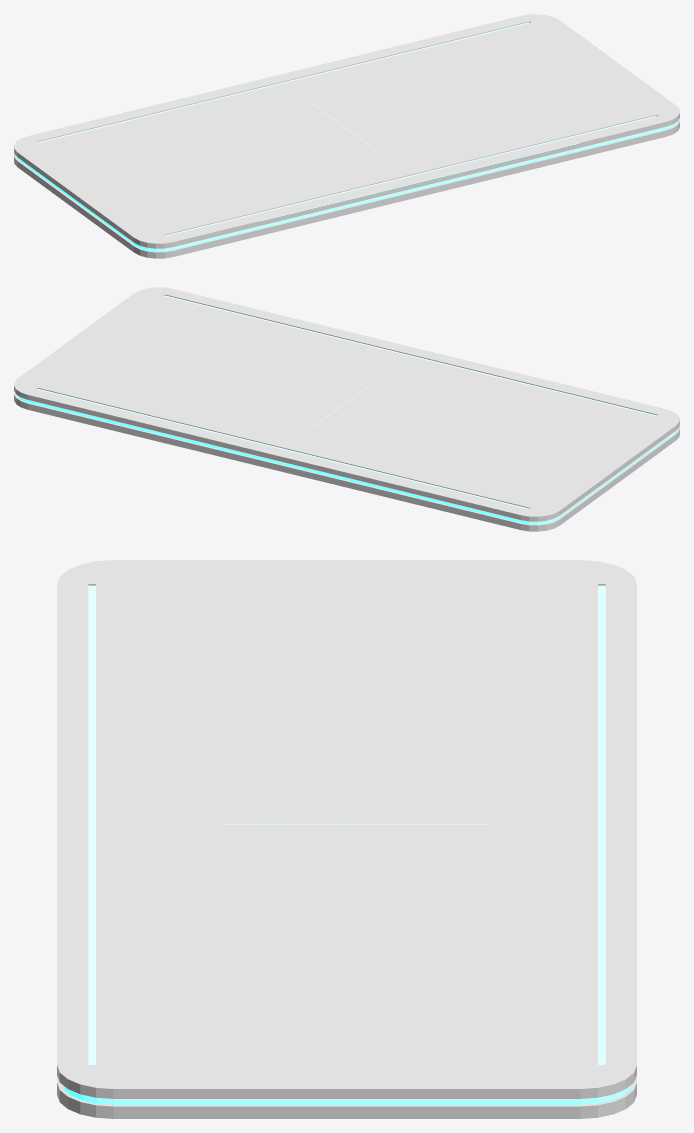
File: Mesa.fbx
3 renders of one model, top to bottom at view 1: azimuth 30°, elevation 25°; view 2: azimuth 150°, elevation 25°; view 3: azimuth 270°, elevation 25°, orthographic. The views are drawn at different scales.
Parts seen in each view (by area): view 1: Cube.018; view 2: Cube.018; view 3: Cube.018.
Part boxes in pixels (x1,y1,x2,y2): Cube.018: [14, 14, 679, 258]; Cube.018: [14, 287, 679, 531]; Cube.018: [57, 560, 636, 1118].
Bounding box in the file's own units: 840 × 23.33 × 389.
Materials: 1 (1 with a texture image).
